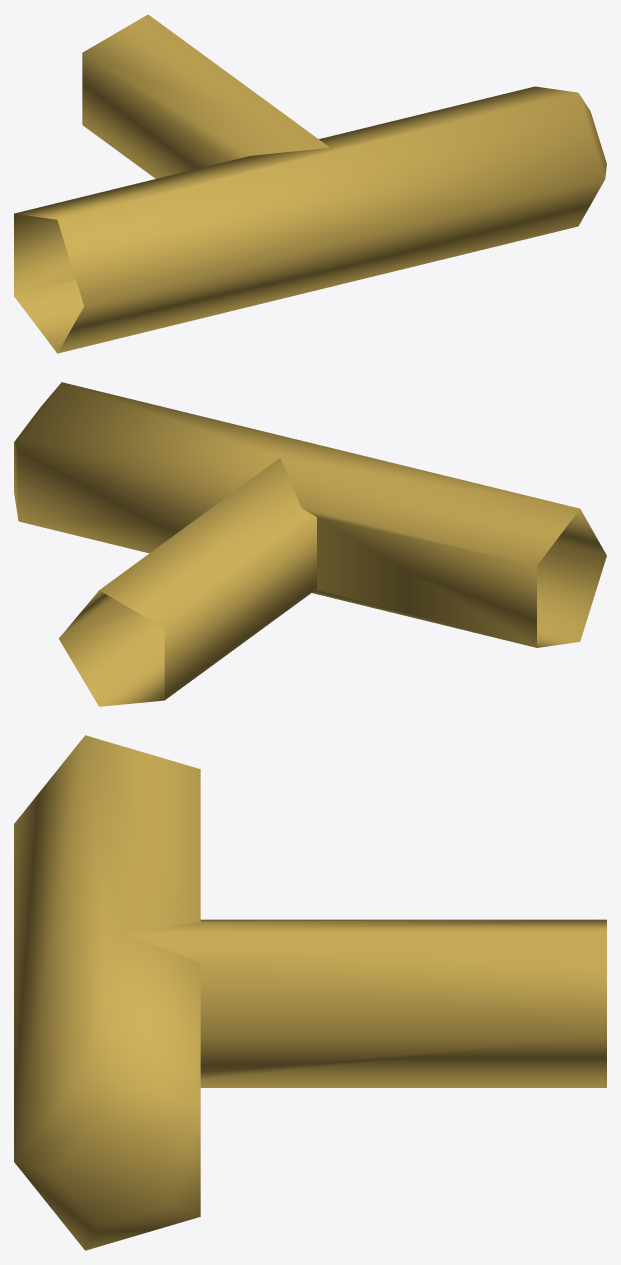
The model's file is original-96.obj.
The picture shows the model from 3 angles, top to bottom: view 1: azimuth 30°, elevation 25°; view 2: azimuth 150°, elevation 25°; view 3: azimuth 270°, elevation 25°; orthographic projection. The views are drawn at different scales.
Visible parts, largest first — view 1: BP3a_1_5/BP3a_1/mesh22/mesh22-geometry#mesh22-geometry; view 2: BP3a_1_5/BP3a_1/mesh22/mesh22-geometry#mesh22-geometry; view 3: BP3a_1_5/BP3a_1/mesh22/mesh22-geometry#mesh22-geometry.
Part boxes in pixels (<box>): BP3a_1_5/BP3a_1/mesh22/mesh22-geometry#mesh22-geometry: <box>14,14,606,353</box>; BP3a_1_5/BP3a_1/mesh22/mesh22-geometry#mesh22-geometry: <box>14,382,606,706</box>; BP3a_1_5/BP3a_1/mesh22/mesh22-geometry#mesh22-geometry: <box>14,735,606,1250</box>.
Size of the model in its own units: 0.0981 by 0.0233 by 0.0705.
